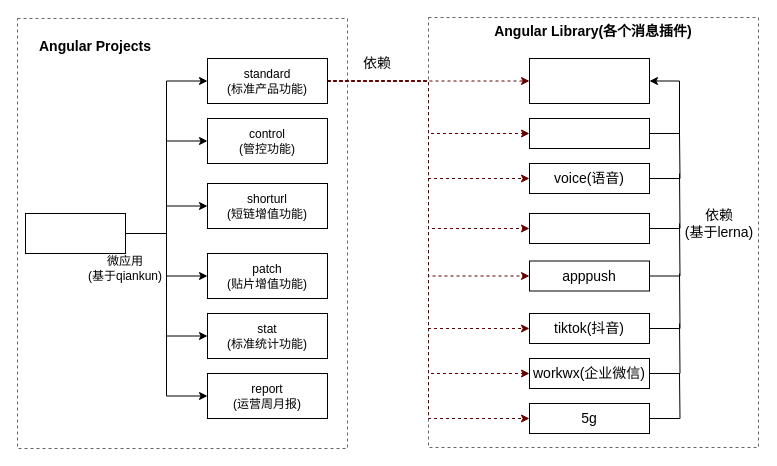
Image size: 777x466. Some labels were removed from this diagram. The centre of each missing label's shape, as x and y in pixels:
"base (主应用提供容器)" goes at [75,233].
"common (公共组件和服务)" goes at [589,81].
"email(邮件)" goes at [589,228].
"sms(短信)" goes at [589,133].
